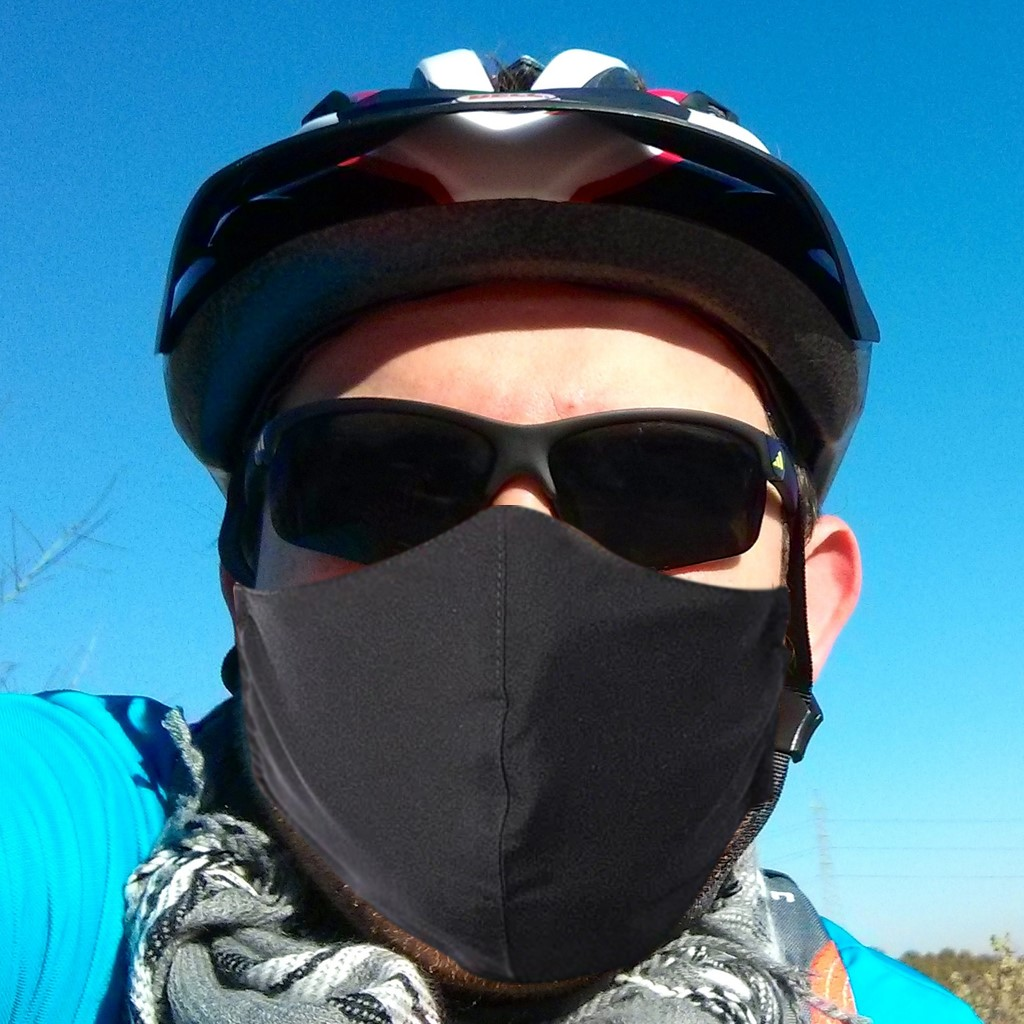con_mascara: (215, 250, 805, 1005)
